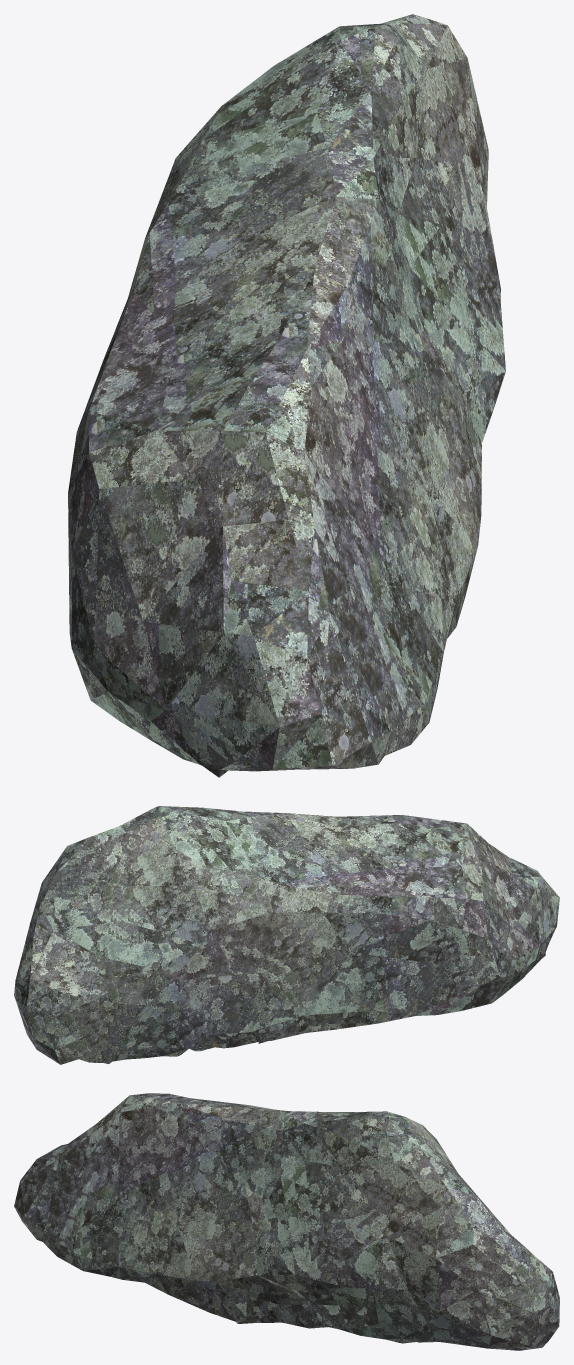
Rendered from rock_1.dae.
3 views of the same model, one above another, from view 1: azimuth 30°, elevation 25°; view 2: azimuth 150°, elevation 25°; view 3: azimuth 270°, elevation 25° (orthographic). The views are drawn at different scales.
Visible parts, largest first — view 1: instance_0; view 2: instance_0; view 3: instance_0.
Part boxes in pixels (x1,y1,x2,y2): instance_0: (68, 14, 505, 777); instance_0: (14, 806, 559, 1064); instance_0: (14, 1093, 559, 1350).
Size of the model in its own units: 28.05 by 39.47 by 17.49.
Materials: 1 (1 with a texture image).
